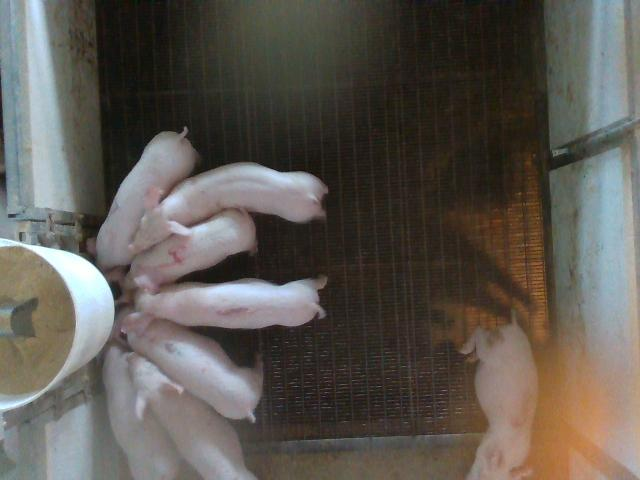pig-1: (122, 266, 328, 333)
pig-3: (460, 315, 538, 478)
pig-4: (105, 209, 258, 304)
